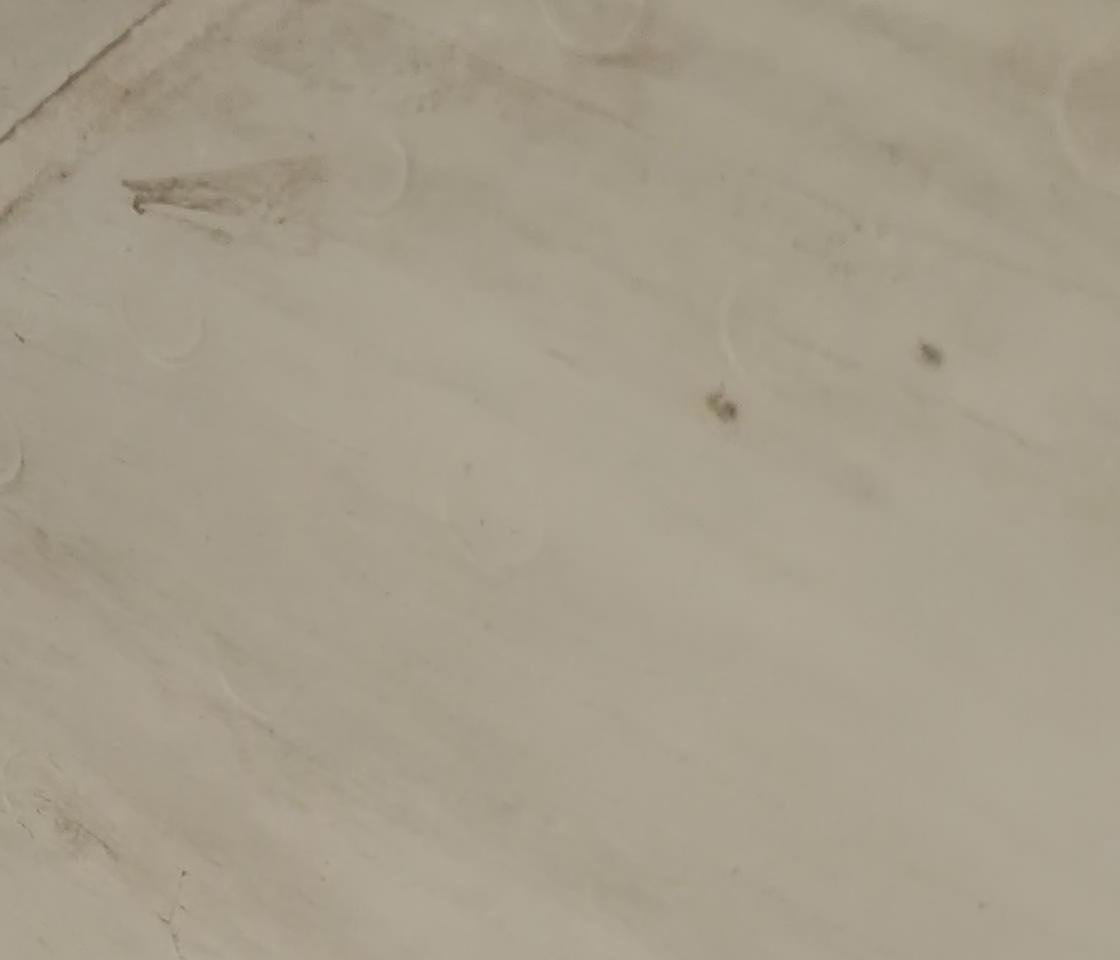paint_peel: (697, 385, 752, 431)
